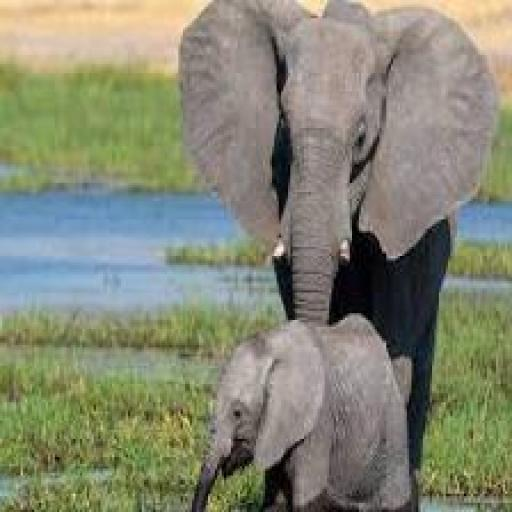Elephant: (155, 12, 512, 412), (137, 244, 452, 512)
